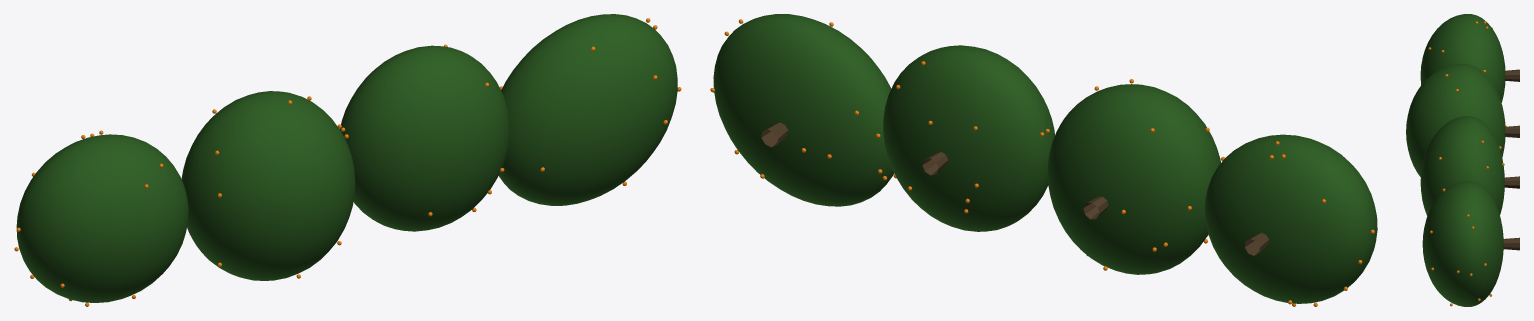
Rendered from citrus_plain4_c_fruit.obj.
3 views of the same model, side by side, from view 1: azimuth 30°, elevation 25°; view 2: azimuth 150°, elevation 25°; view 3: azimuth 270°, elevation 25° (orthographic). The views are drawn at different scales.
Visible parts, largest first — view 1: canopy, fruit; view 2: canopy, trunk, fruit; view 3: canopy, trunk, fruit.
Part boxes in pixels (<box>): canopy: <box>16,14,677,302</box>; fruit: <box>14,18,681,306</box>; canopy: <box>713,14,1377,303</box>; trunk: <box>761,122,1268,255</box>; fruit: <box>710,19,1374,306</box>; canopy: <box>1406,14,1505,306</box>; trunk: <box>1503,69,1519,250</box>; fruit: <box>1428,21,1506,306</box>.
Size of the model in its own units: 12.32 by 3.32 by 2.67.
